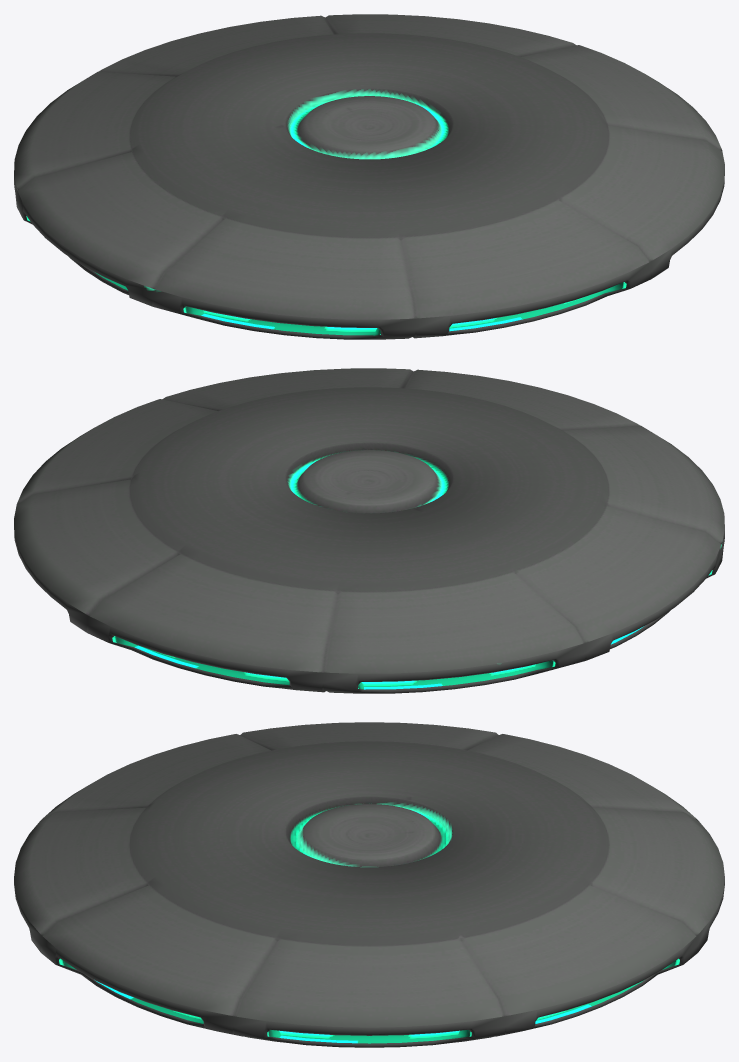
Rendered from mothership_team_fortress_2.glb.
3 views of the same model, one above another, from view 1: azimuth 30°, elevation 25°; view 2: azimuth 150°, elevation 25°; view 3: azimuth 270°, elevation 25° (orthographic).
Visible parts, largest first — view 1: mothership_wg_reference_0; view 2: mothership_wg_reference_0; view 3: mothership_wg_reference_0.
Part boxes in pixels (x1,y1,x2,y2): mothership_wg_reference_0: [14, 14, 724, 339]; mothership_wg_reference_0: [14, 368, 724, 693]; mothership_wg_reference_0: [14, 722, 724, 1047].
Size of the model in its own units: 1779 by 299 by 1779.
1 material, 1 textured.
